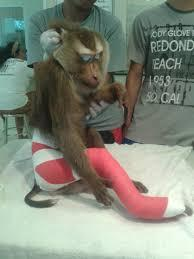fracture: (37, 131, 189, 238)
